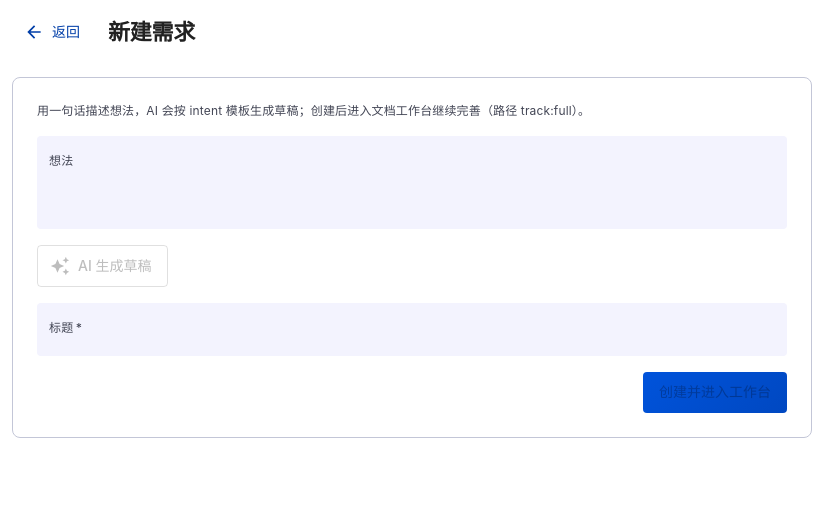
it: NewChangePage › shows the server error and stays on the page
The image size is (829, 519).
Type "T" into the field labelled "标题" at (412, 330), box [37, 303, 787, 356]
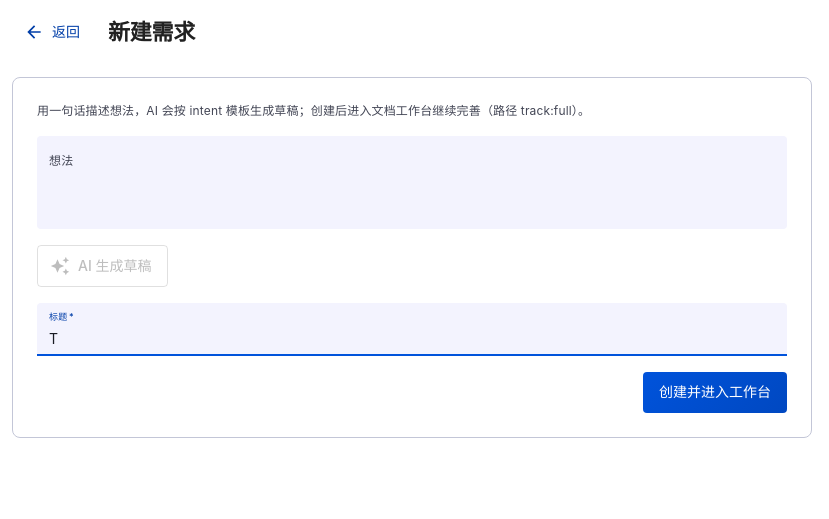
Click the button "创建并进入工作台" at (715, 392), box [643, 372, 787, 413]
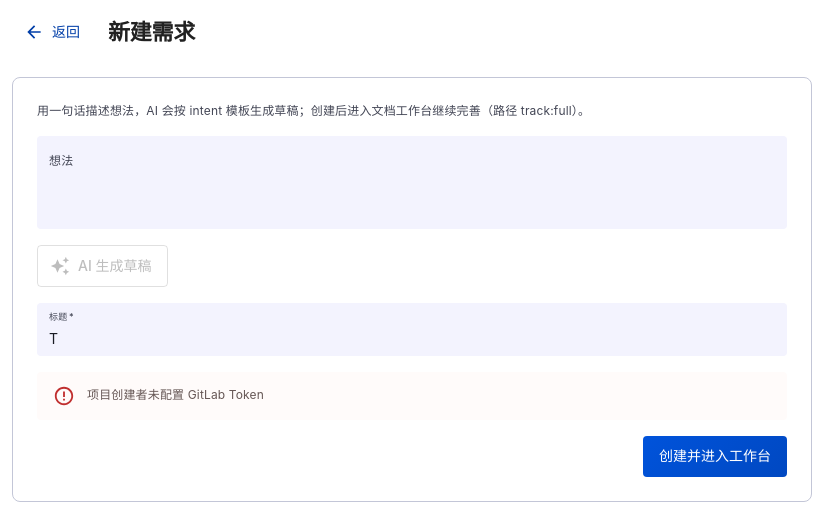
Now the text "项目创建者未配置 GitLab Token" is shown, box [87, 387, 264, 402]
